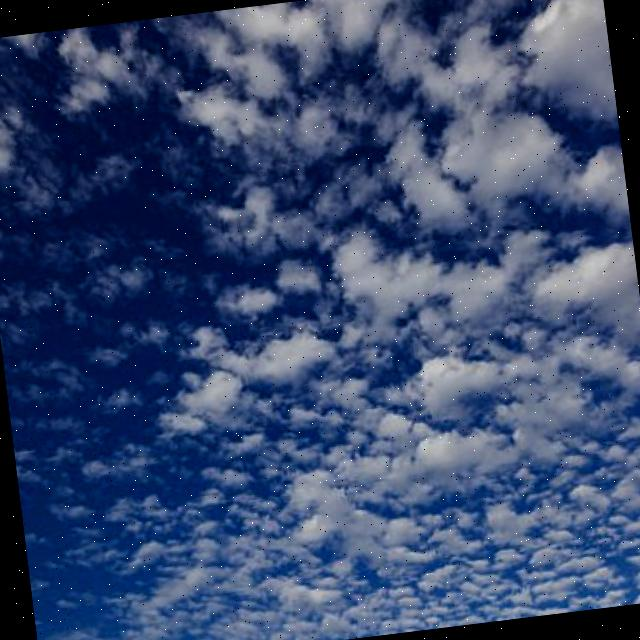Ac: (1, 5, 640, 566)
